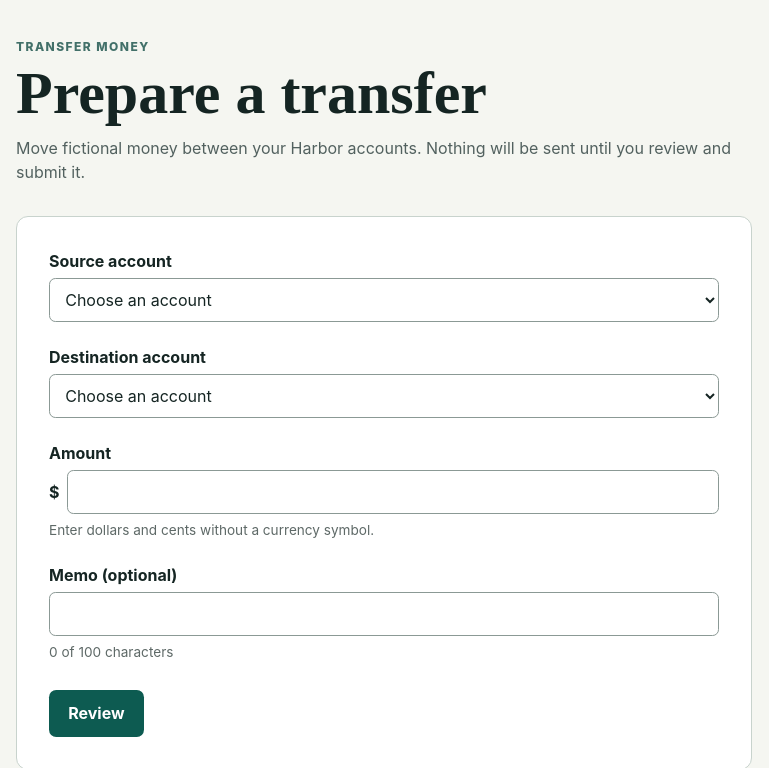
Test: transfer form validation › prevents transfers to the same account
The image size is (769, 768).
Select "Everyday Checking (•••• 4821) — available $1,250.00" in the dropdown labelled "Source account" at (384, 300), box x1=49 y1=278 x2=719 y2=322
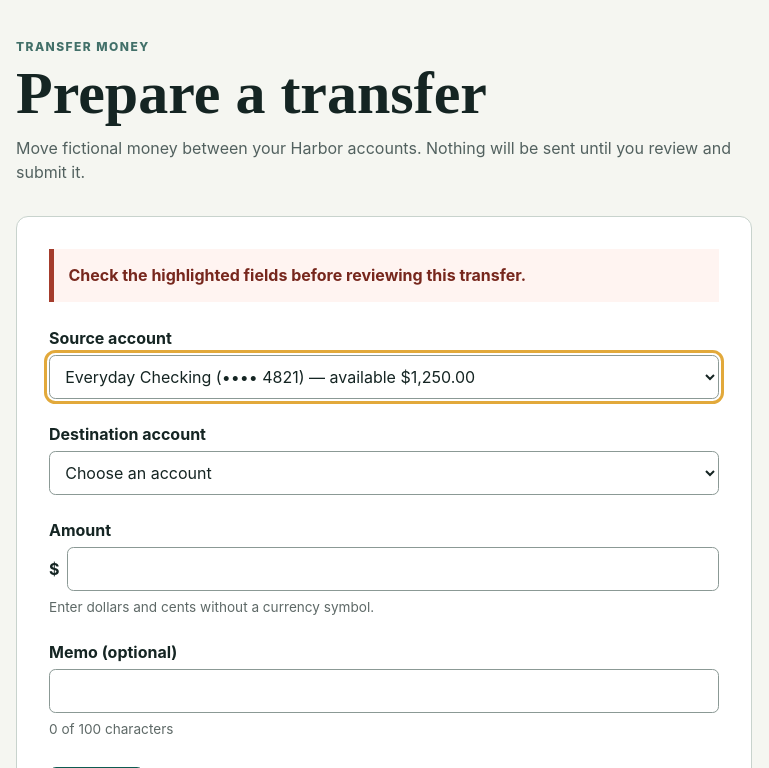
Select "Everyday Checking (•••• 4821)" in the dropdown labelled "Destination account" at (384, 473), box x1=49 y1=451 x2=719 y2=495
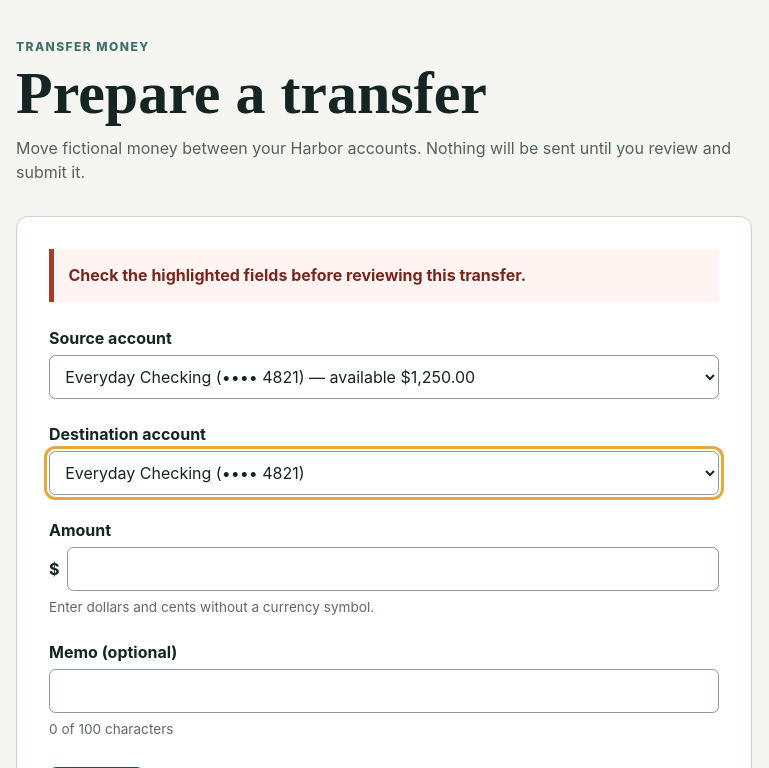
Type "10" into the number field labelled "Amount".
click(393, 569); type("10")  # box x1=68 y1=547 x2=719 y2=591
(page scrolled)
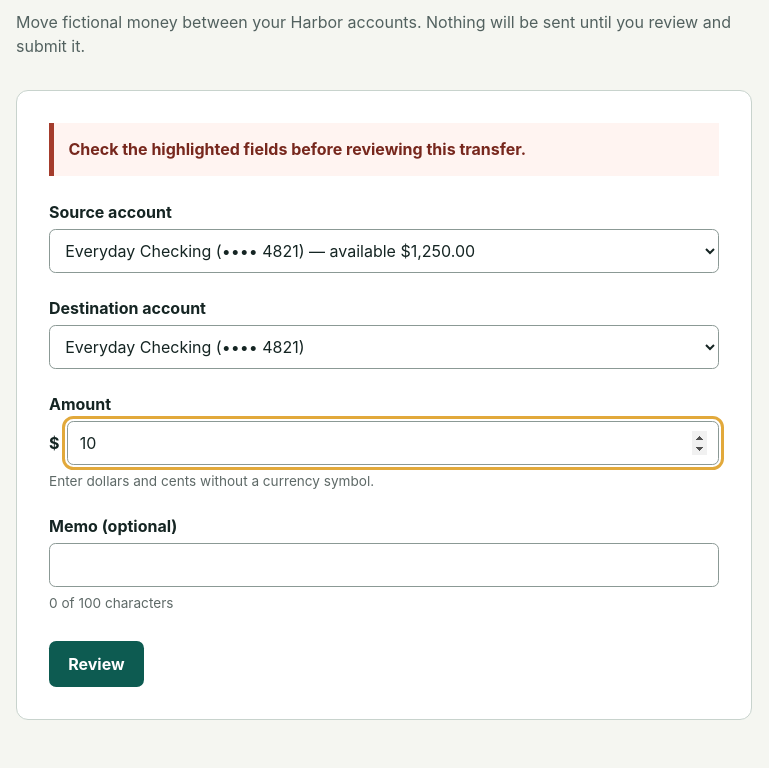
Click the button "Review".
click(96, 664)  # box x1=49 y1=641 x2=144 y2=688
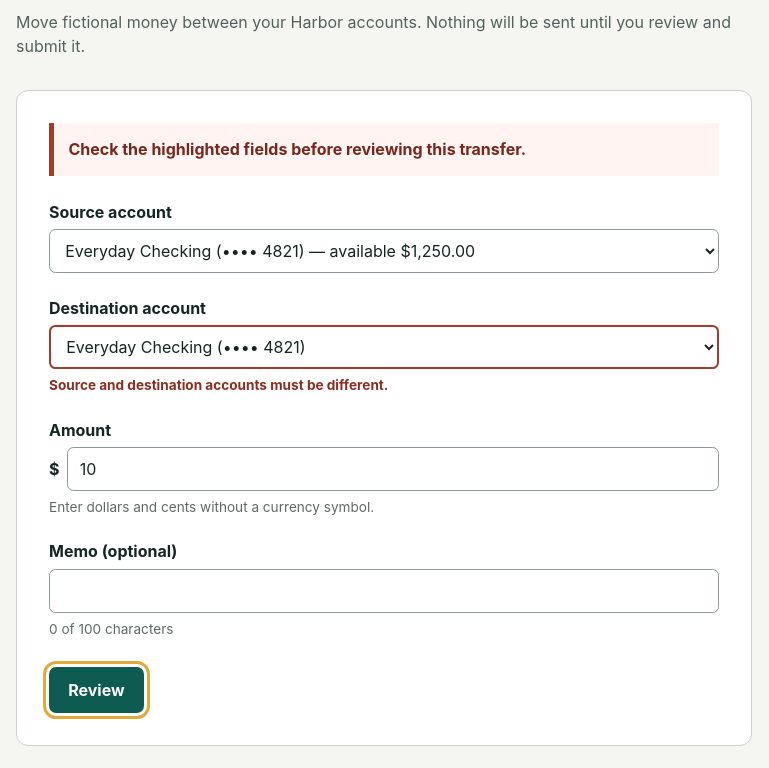
Result: the text "Source and destination accounts must be different." is shown at x1=49 y1=377 x2=388 y2=393
